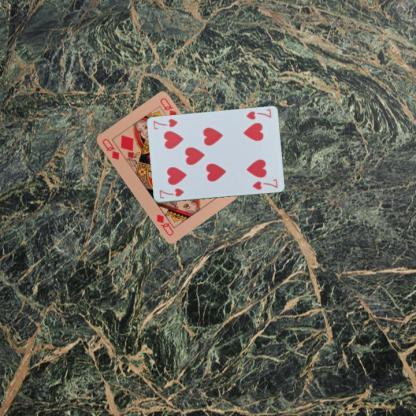7h: (156, 186, 185, 200), (243, 107, 272, 121)
Qd: (99, 136, 121, 162)
